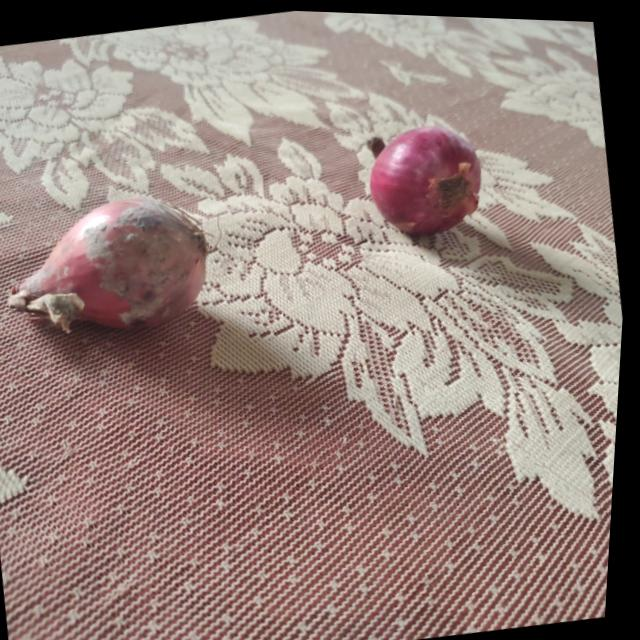onion: (0, 178, 222, 347), (361, 115, 493, 242)
